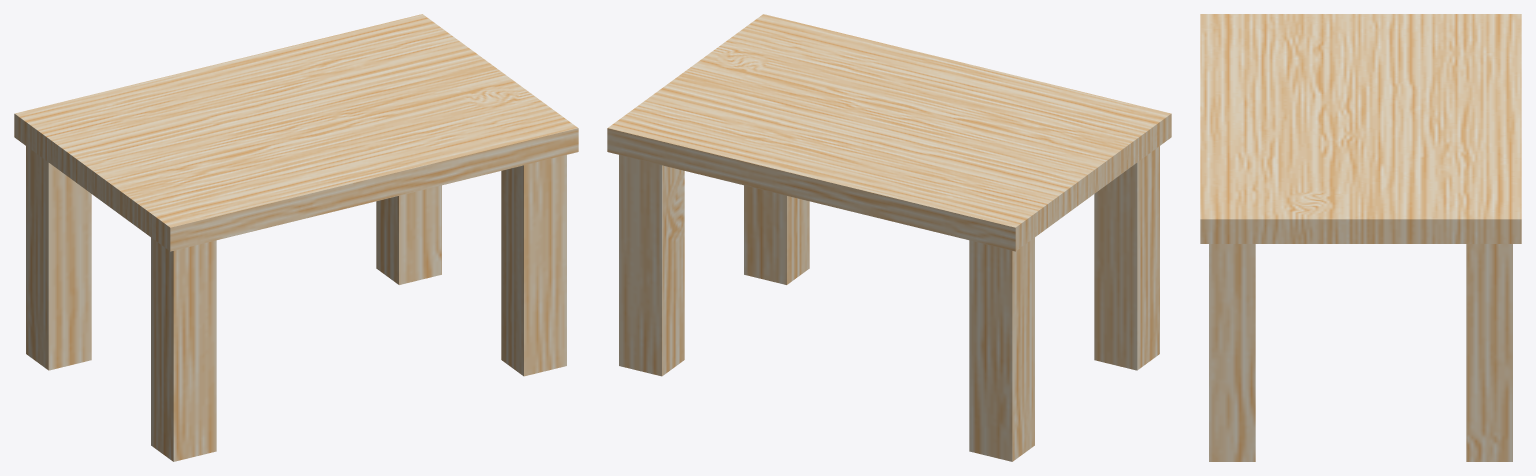
Rendered from table.obj.
The picture shows the model from 3 angles, left to right: view 1: azimuth 30°, elevation 25°; view 2: azimuth 150°, elevation 25°; view 3: azimuth 270°, elevation 25°; orthographic projection. The views are drawn at different scales.
Parts seen in each view (by area): view 1: Cube; view 2: Cube; view 3: Cube.
Boxes of the visible parts, left/top/right/bottom form: Cube: left=14, top=14, right=578, bottom=461; Cube: left=607, top=14, right=1171, bottom=461; Cube: left=1200, top=14, right=1521, bottom=461.
Bounding box in the file's own units: 3.62 × 2.03 × 2.4.
1 material, 1 textured.
